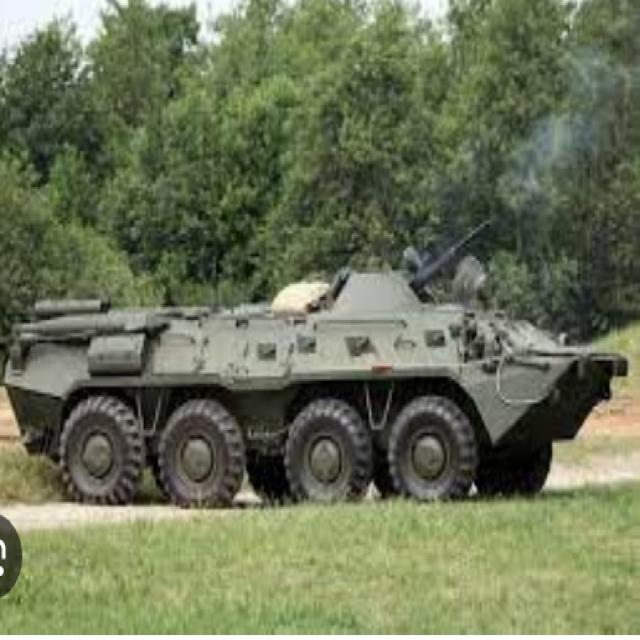MIL_APC: (15, 259, 625, 561)
